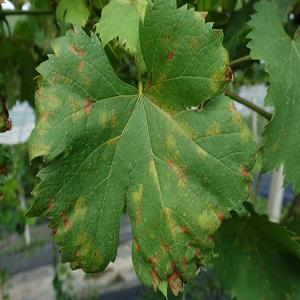Folha: (21, 0, 258, 300)
Fungo: (63, 93, 87, 132), (130, 182, 148, 216), (44, 69, 64, 94), (167, 268, 184, 296), (70, 41, 84, 75), (45, 97, 64, 118), (149, 267, 161, 292), (204, 120, 221, 136), (82, 96, 94, 117), (70, 40, 84, 57), (107, 108, 118, 128), (188, 34, 200, 52), (224, 64, 234, 83), (164, 46, 174, 64), (135, 207, 143, 229), (76, 58, 84, 74), (239, 165, 248, 178), (63, 217, 71, 231), (180, 224, 190, 234), (181, 254, 187, 270), (164, 242, 170, 254), (167, 50, 173, 61)
